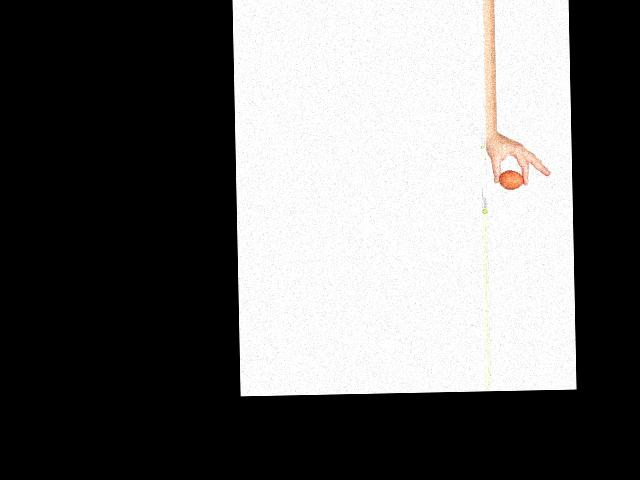egg: (498, 169, 523, 189)
